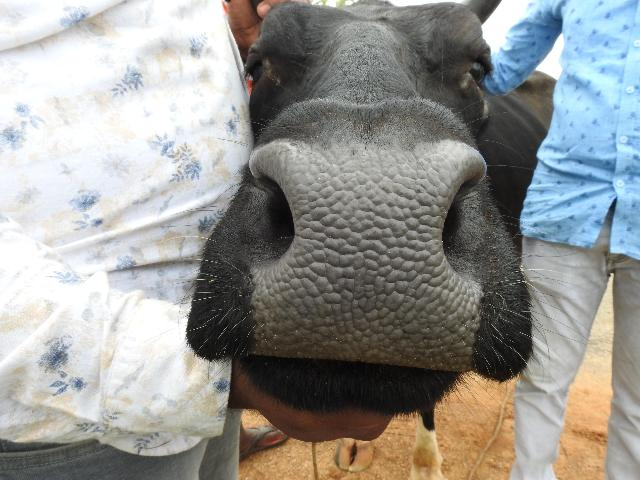Muzzle: (284, 148, 446, 346)
